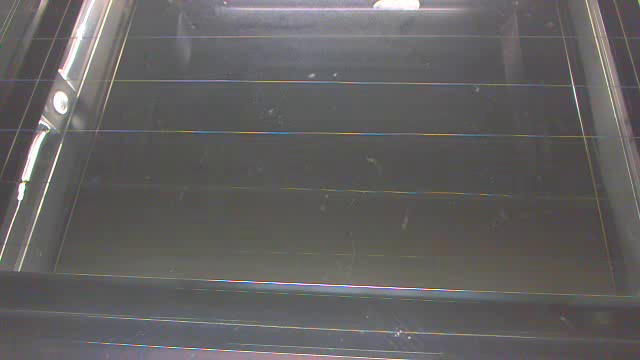alpha: (372, 1, 425, 12)
